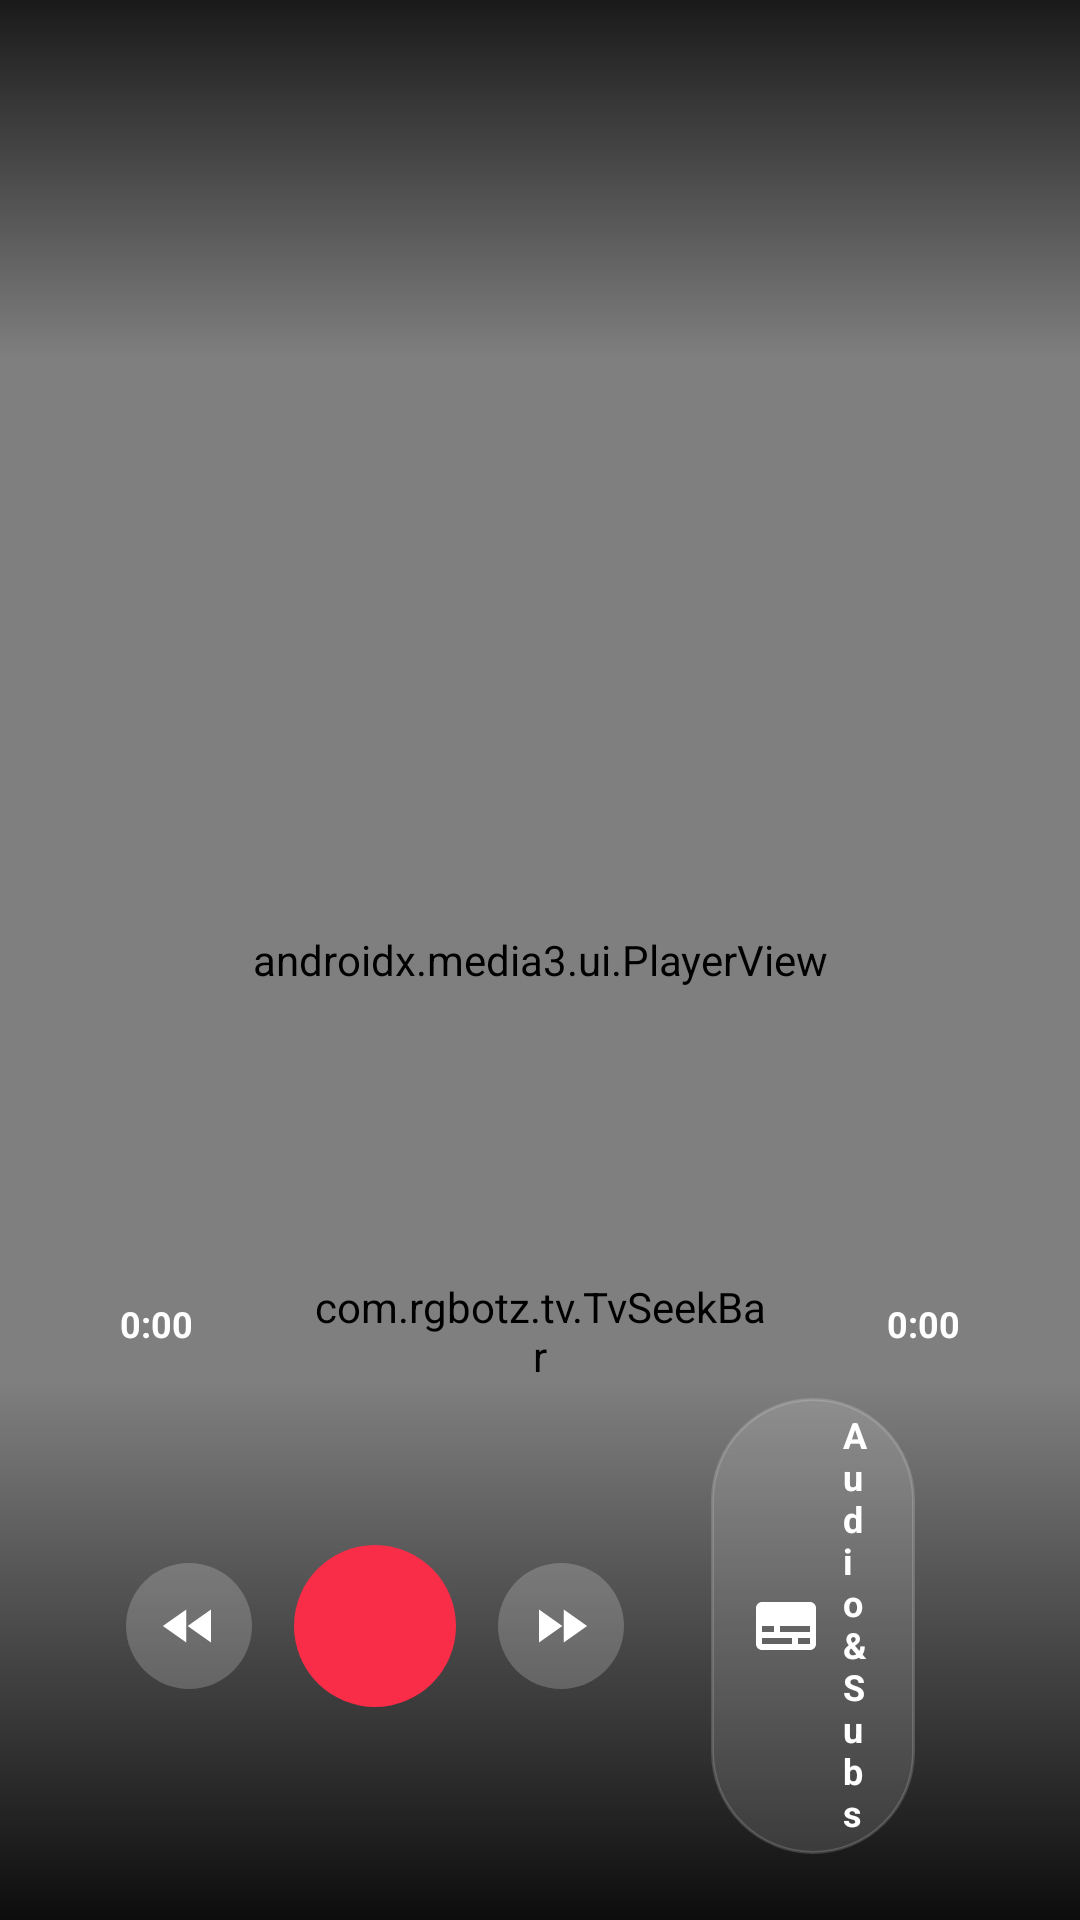

Where to tap for icons on this 1080 × 1920 app screen, as (x=x, y=y):
rew: (x=189, y=1626)
